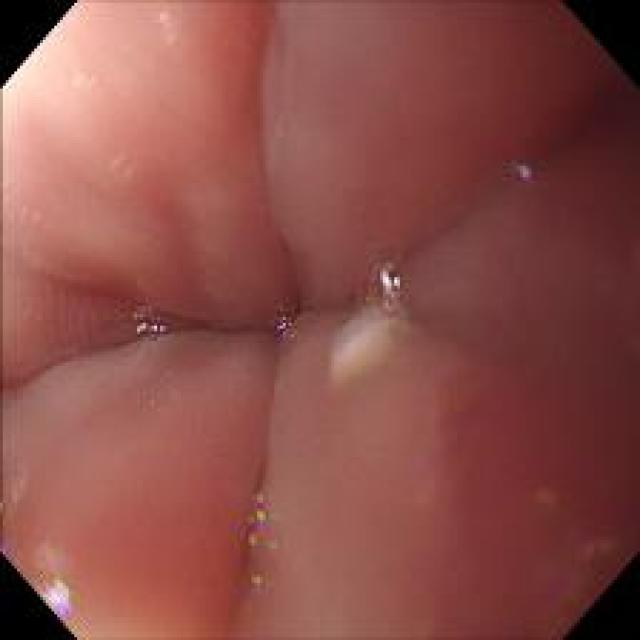bubbles: (356, 256, 411, 316), (265, 308, 308, 345), (128, 306, 162, 336)
color misalignment: (539, 520, 620, 614), (238, 480, 275, 592), (379, 262, 405, 315), (9, 456, 35, 506), (506, 154, 541, 190), (41, 574, 72, 612), (269, 311, 299, 339), (131, 308, 164, 332), (109, 151, 139, 176), (69, 65, 96, 92), (156, 9, 176, 38)
